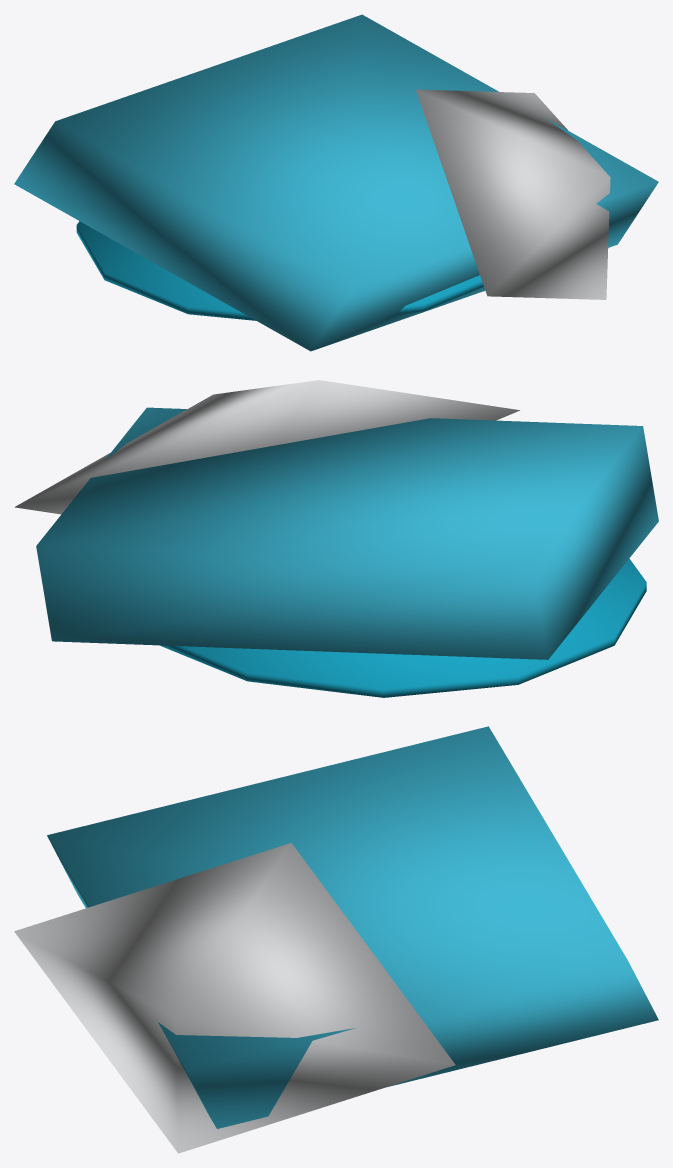
Rendered from porta-potty-wreck.glb.
The picture shows the model from 3 angles, top to bottom: view 1: azimuth 30°, elevation 25°; view 2: azimuth 150°, elevation 25°; view 3: azimuth 270°, elevation 25°; orthographic projection. The views are drawn at different scales.
Parts seen in each view (by area): view 1: world; view 2: world; view 3: world.
Boxes of the visible parts, box(x1,y1,x2,y2) form: world: box(14, 14, 658, 351); world: box(14, 380, 658, 697); world: box(14, 726, 658, 1153).
Size of the model in its own units: 3.5 by 1.4 by 3.5.
